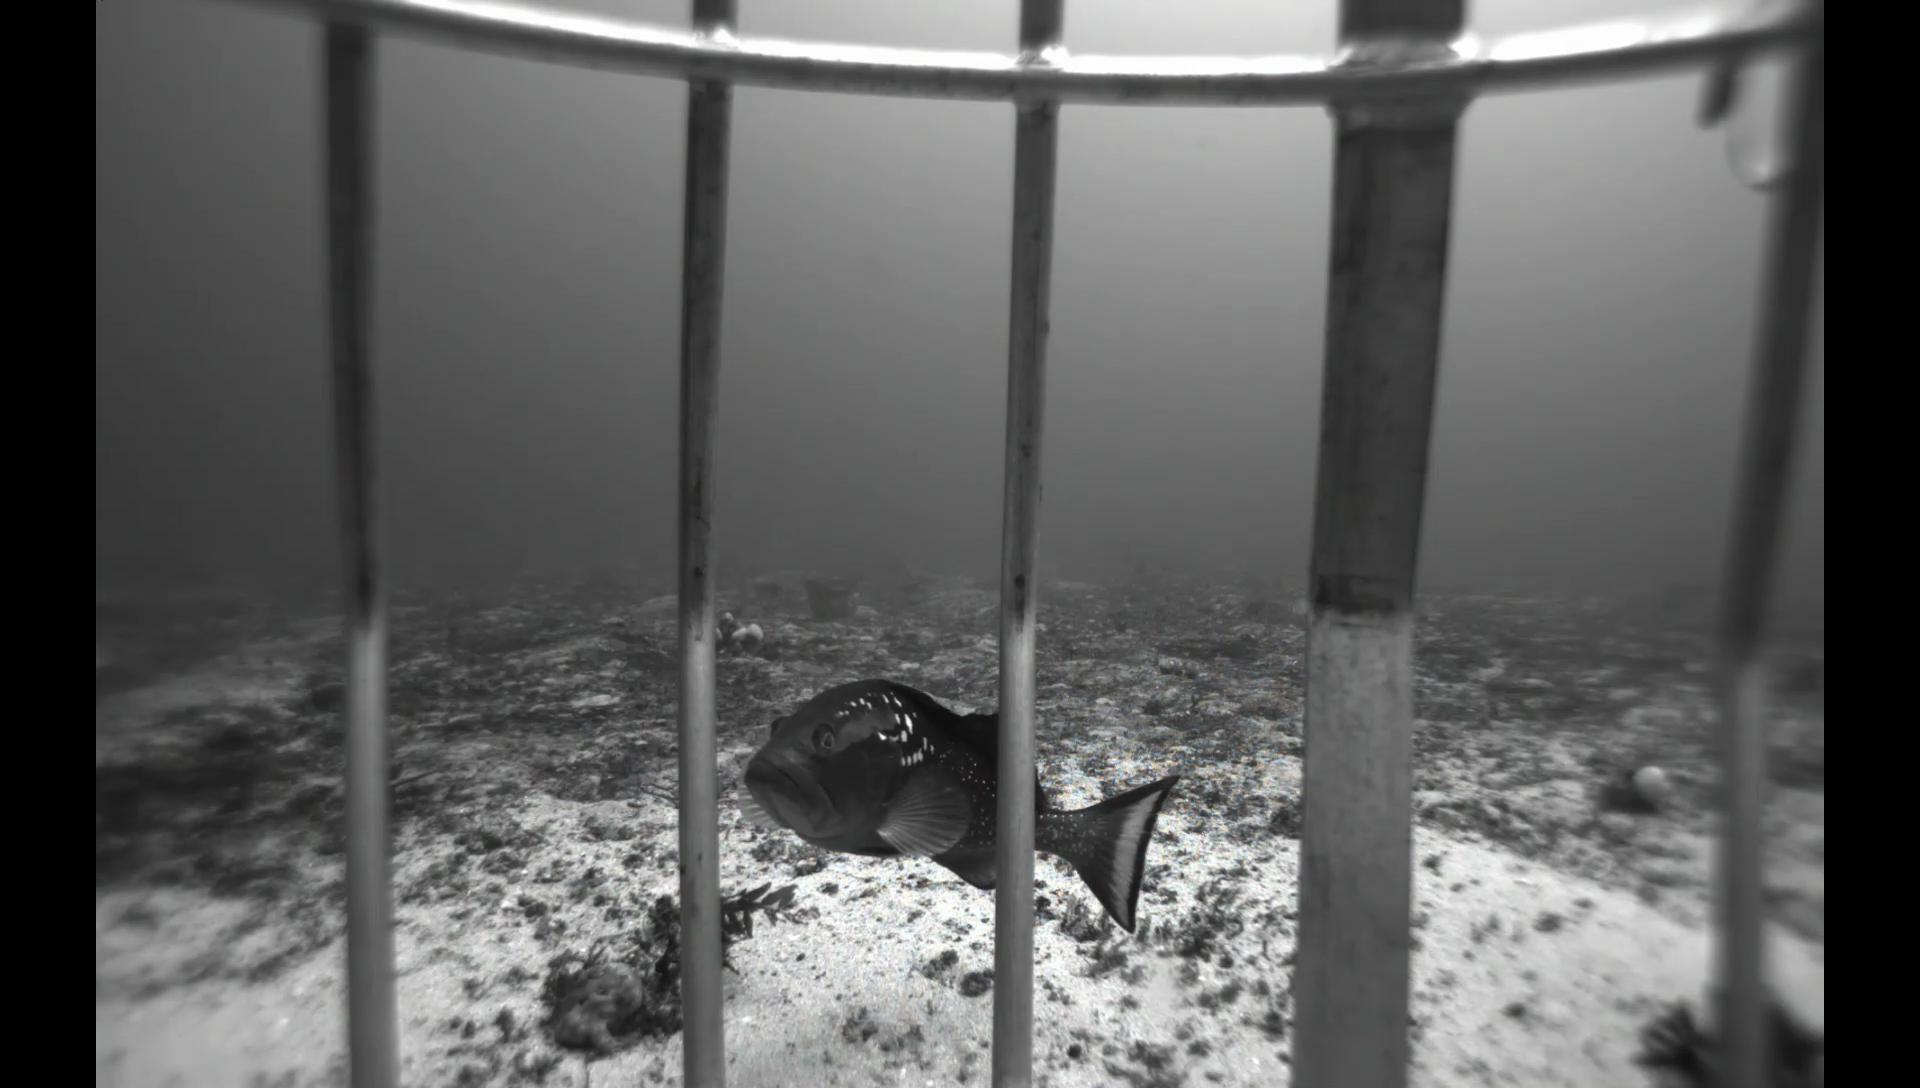CHAETODONOCELLATUS-170260307: (1282, 593, 1305, 617)
EPINEPHELUSMORIO-170021211: (723, 677, 1185, 943)
PRISTIGENYSALTA-170050401: (294, 677, 344, 719)
